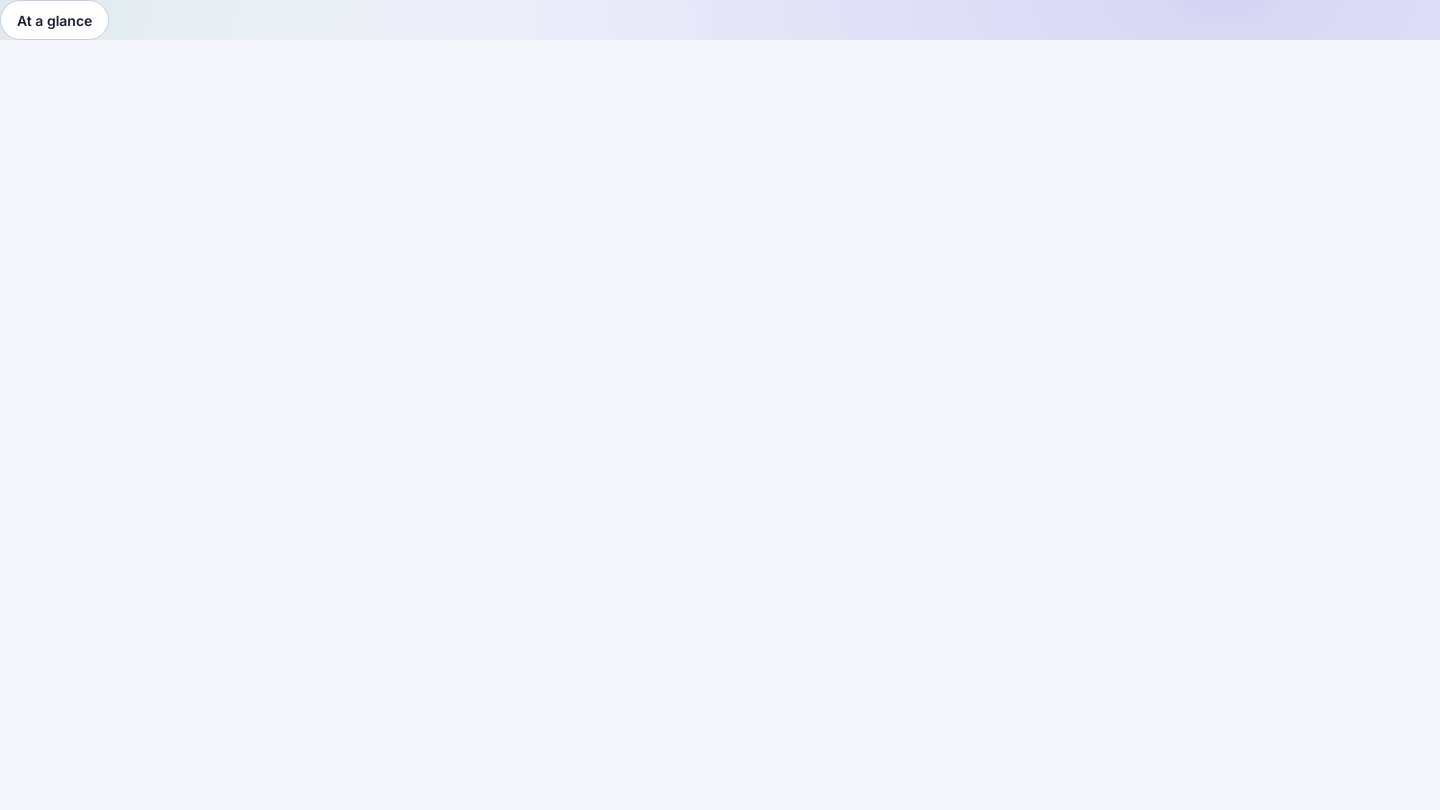
Scenario: At a glance dialog (extra) › shows the new Application Security highlight, naming the client only as a global bank
Click the button "At a glance": [55, 20] box [0,0,109,40]
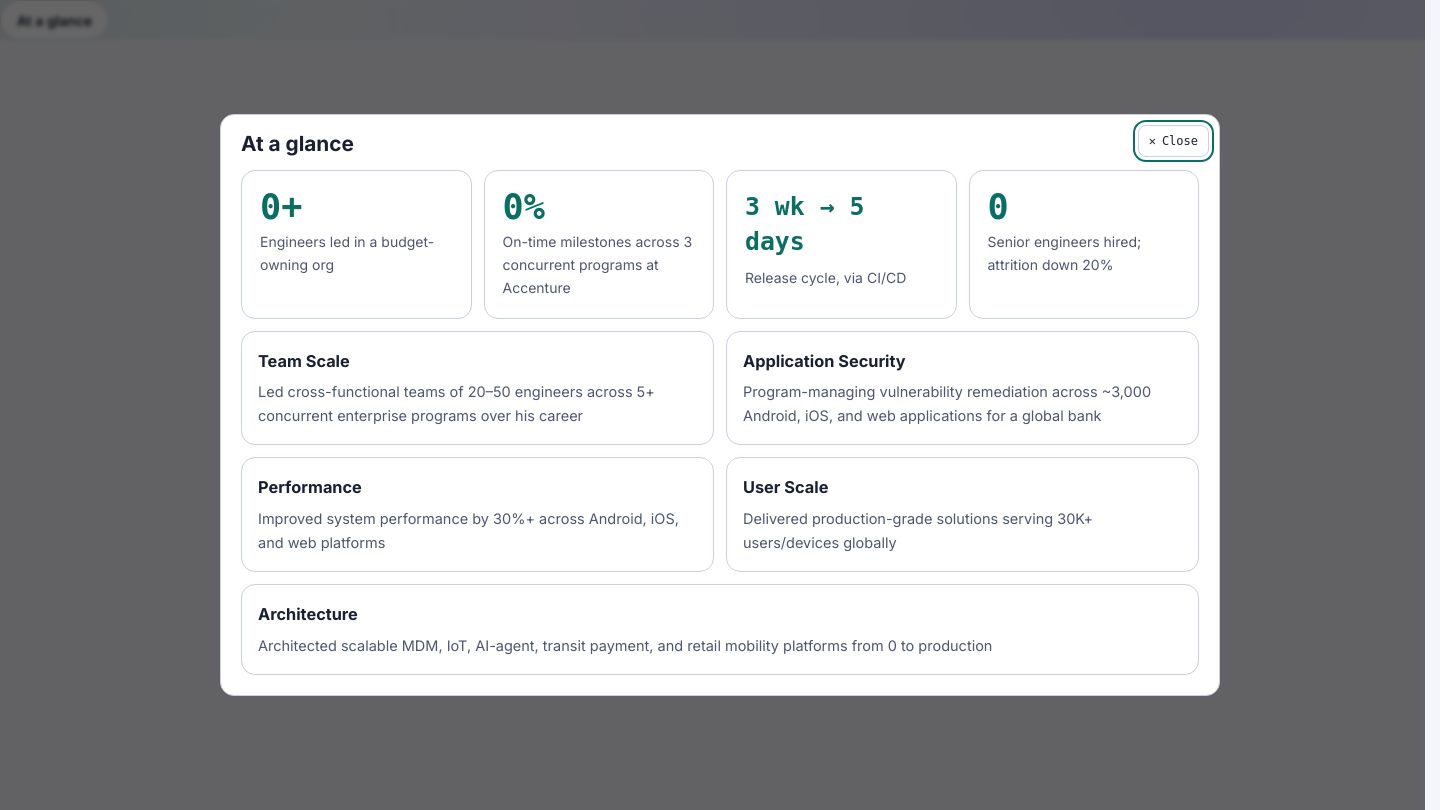
Expected: the element "Application Security" shows "~3,000 Android, iOS, and web applications for a global bank", [743,384,1151,424]
